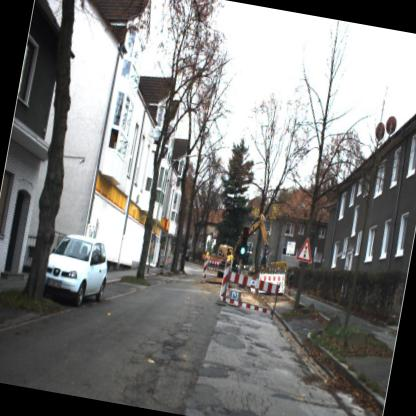danger: (292, 234, 317, 268)
